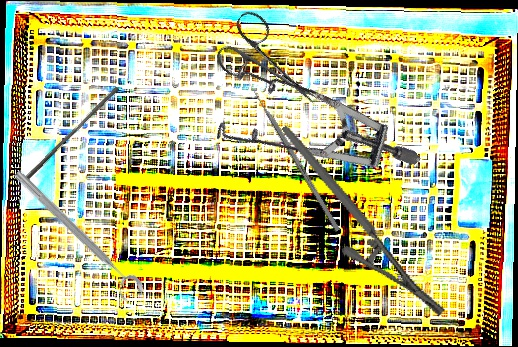Fixation Ring: (3, 166, 148, 307)
Iris Scissors: (208, 6, 338, 127)
Needle Holder: (281, 96, 447, 345)
Pusher: (245, 78, 341, 232), (22, 83, 120, 187)
Speculum: (191, 15, 422, 252)
